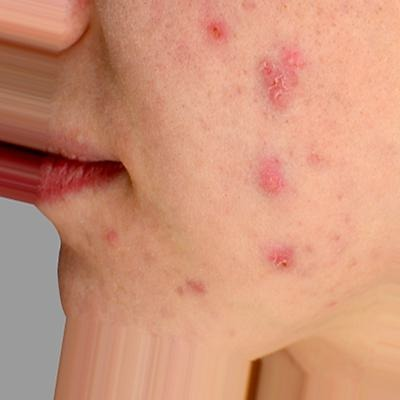Acne: (181, 17, 315, 303)
